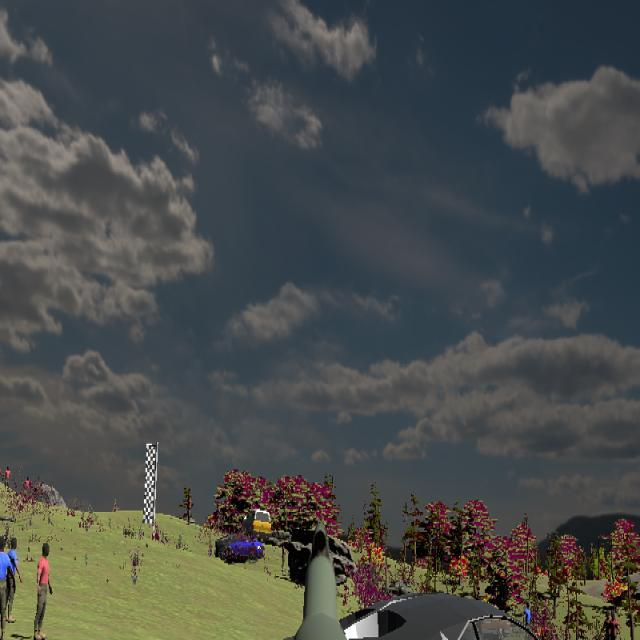Human: (34, 542, 53, 639), (4, 537, 23, 623), (0, 537, 16, 627), (0, 536, 15, 627)
car: (213, 593, 608, 640), (216, 533, 265, 563), (244, 509, 272, 541)
